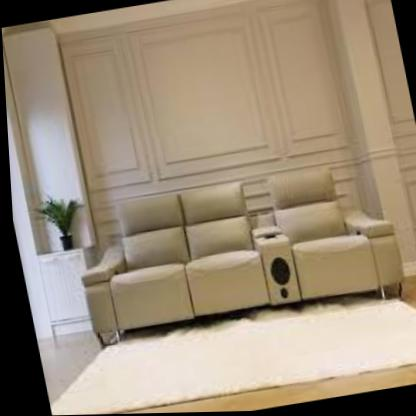Sofa: (41, 132, 416, 362)
